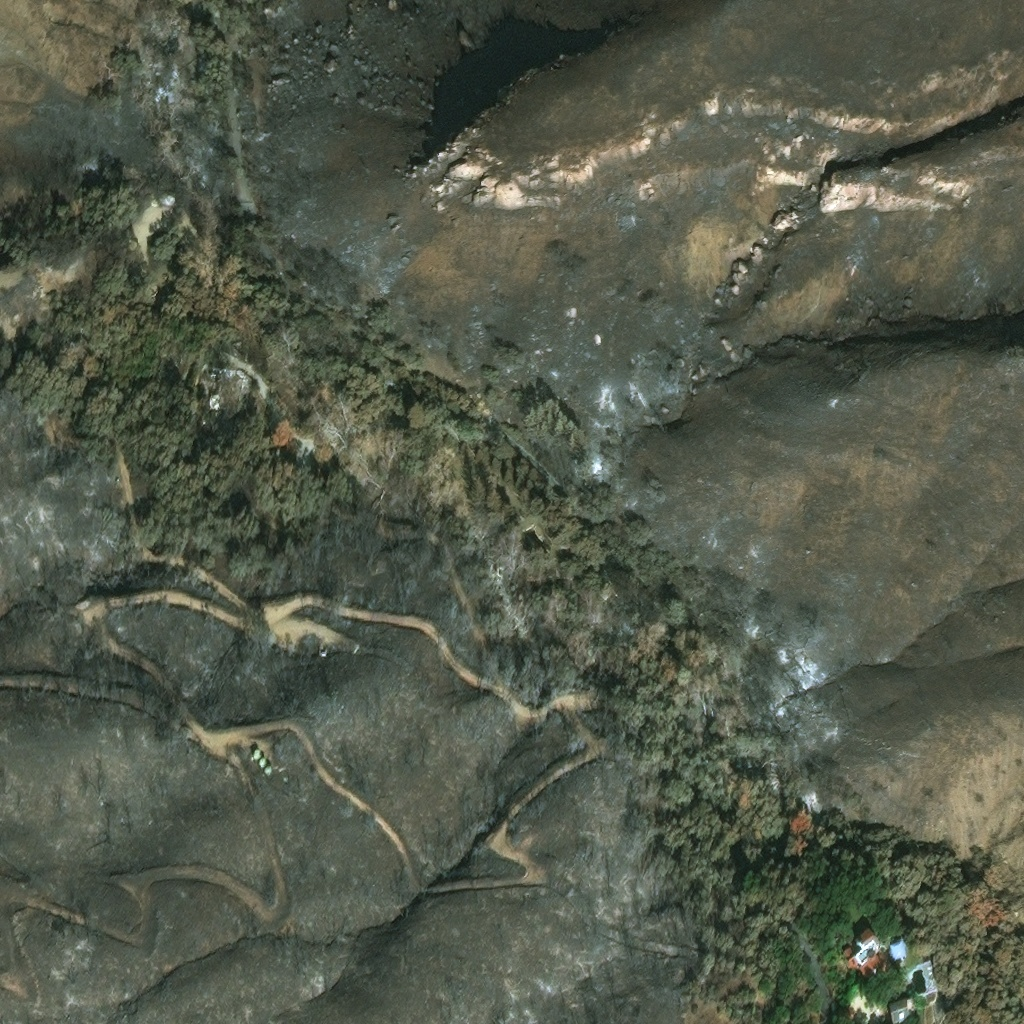0 no-damage: (845, 950, 890, 982), (887, 1001, 916, 1023), (889, 941, 909, 965), (856, 930, 874, 948), (842, 947, 854, 960), (258, 758, 268, 767), (253, 750, 261, 759), (263, 767, 272, 775)
2 major-damage: (319, 645, 328, 654)
3 destroyed: (165, 356, 180, 376), (206, 391, 221, 407)
